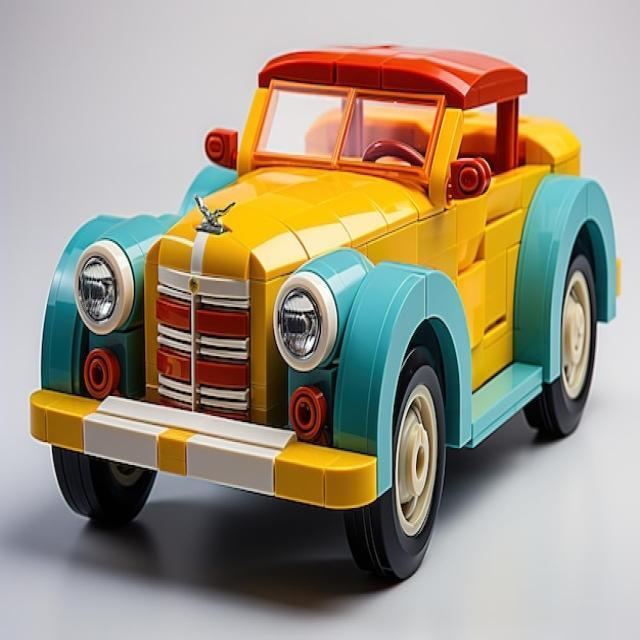hard-toy: (32, 48, 621, 580)
